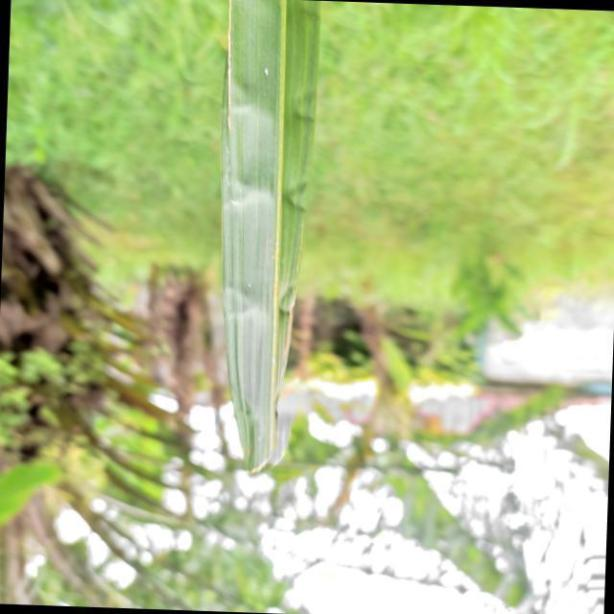Boron: (224, 0, 323, 484)
